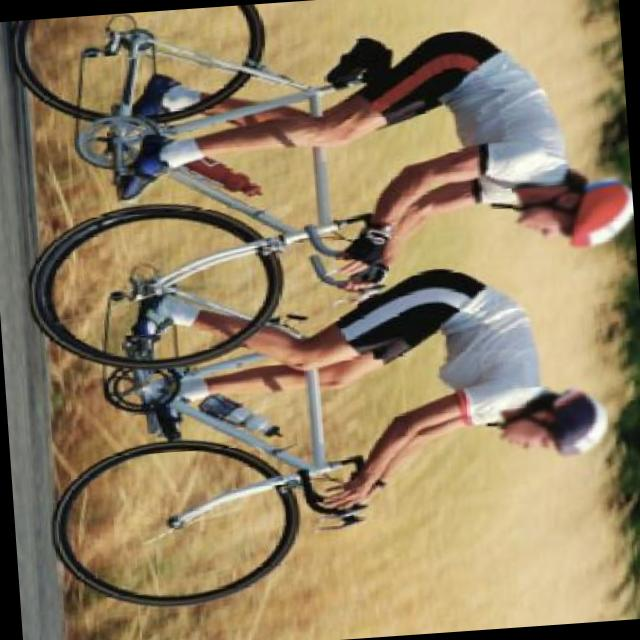With Helmet: (512, 164, 636, 256), (492, 382, 615, 468)
